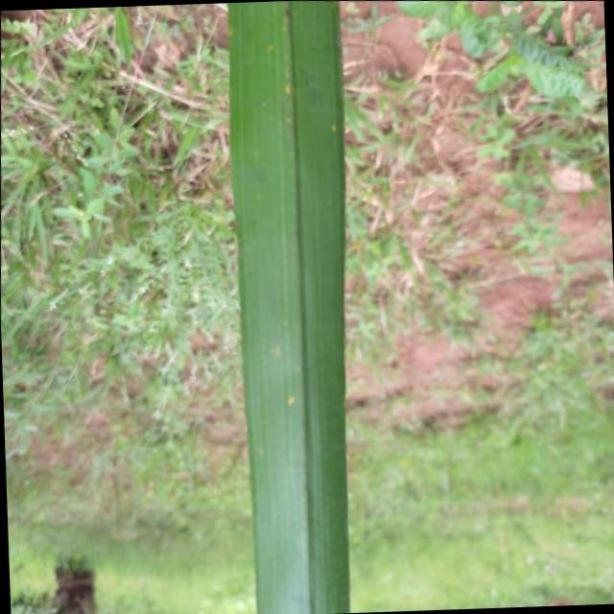Kalium: (225, 5, 355, 614)
